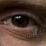eye: (13, 15, 28, 27)
